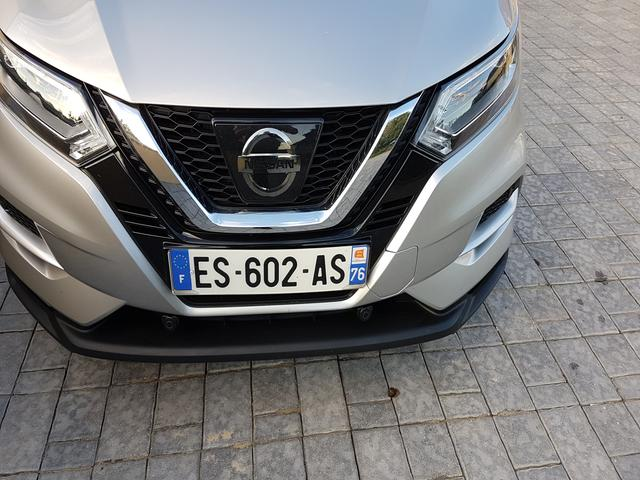Quashquai: (144, 215, 406, 319)
